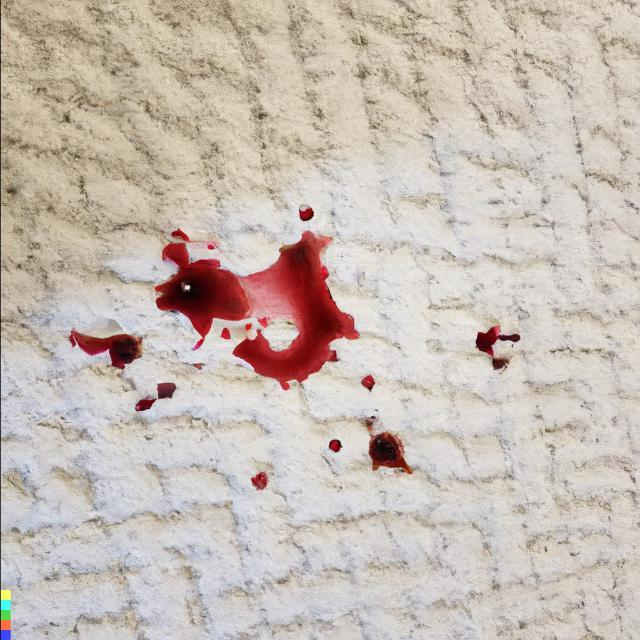blood: (154, 230, 361, 391), (69, 330, 143, 371), (368, 431, 413, 474), (474, 325, 520, 356), (134, 395, 158, 411), (156, 382, 177, 399), (492, 356, 510, 372), (361, 374, 375, 392), (298, 207, 314, 221), (328, 439, 342, 452)
